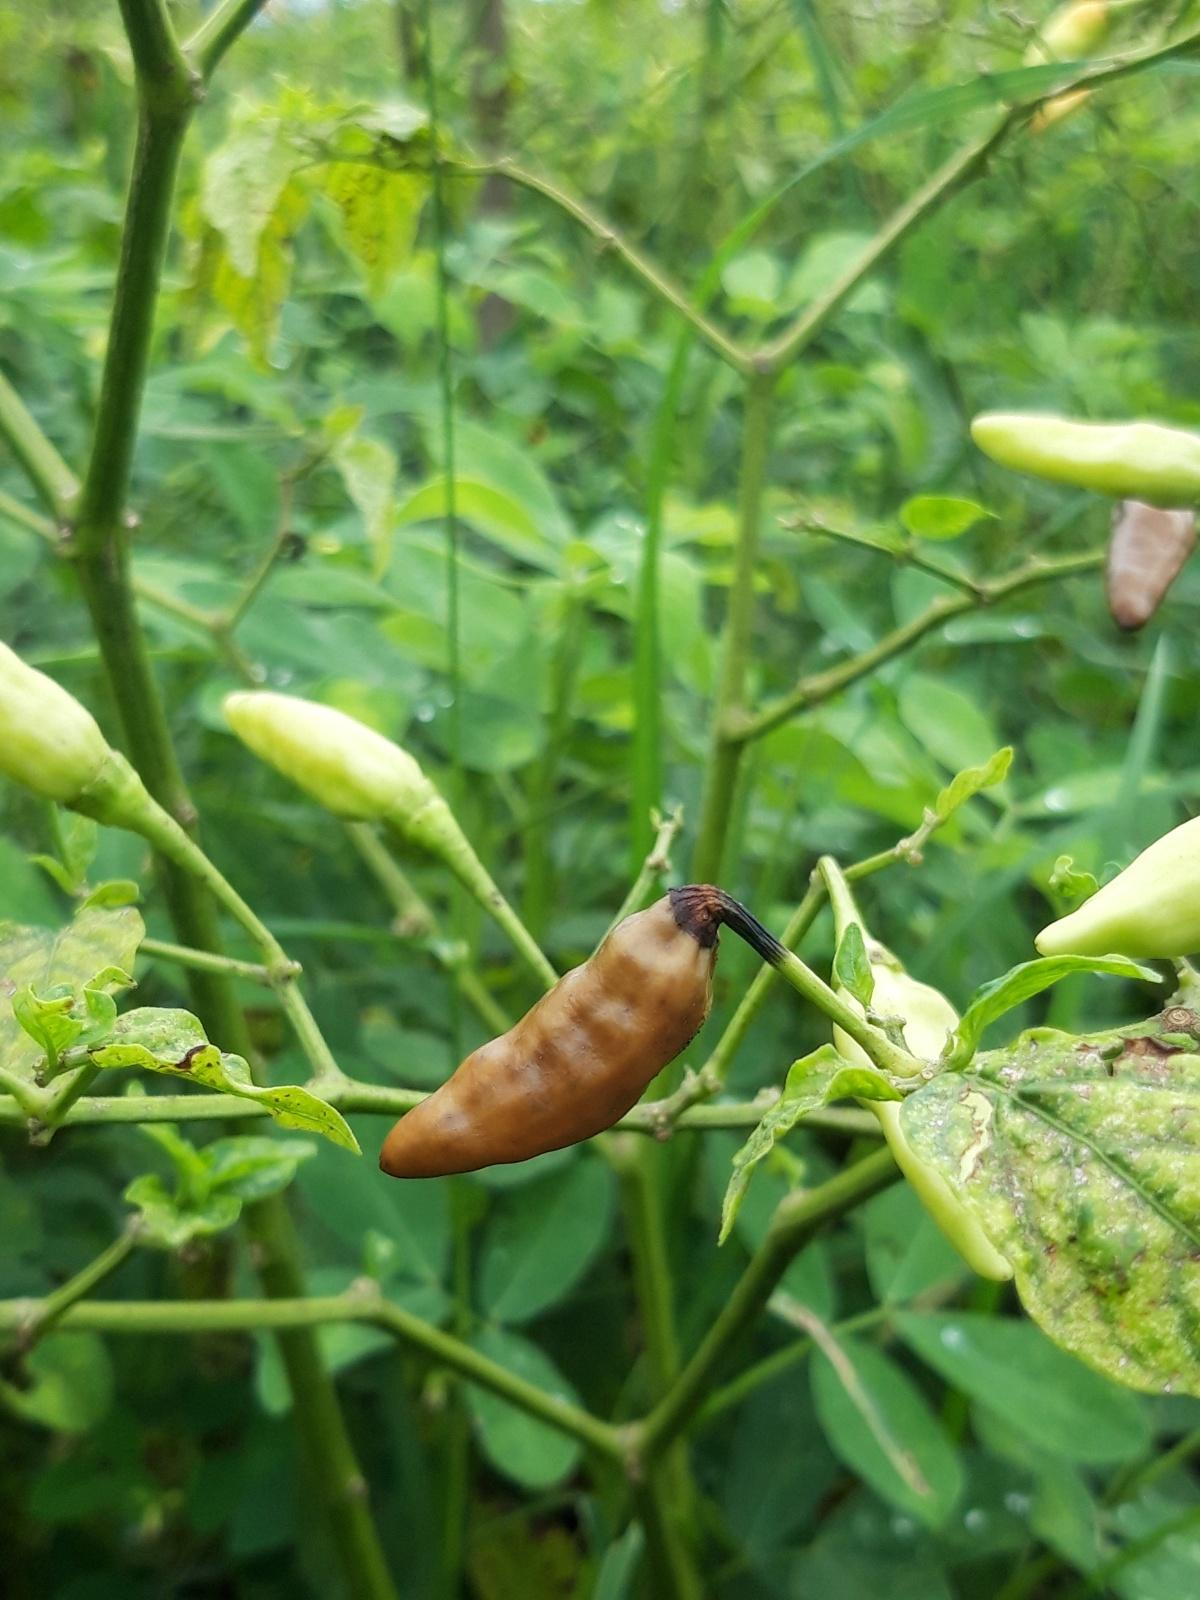cabai_normal: (216, 687, 447, 831), (1036, 814, 1200, 965), (972, 409, 1200, 511)
lalat_buah: (376, 876, 724, 1184), (1100, 493, 1200, 634)
